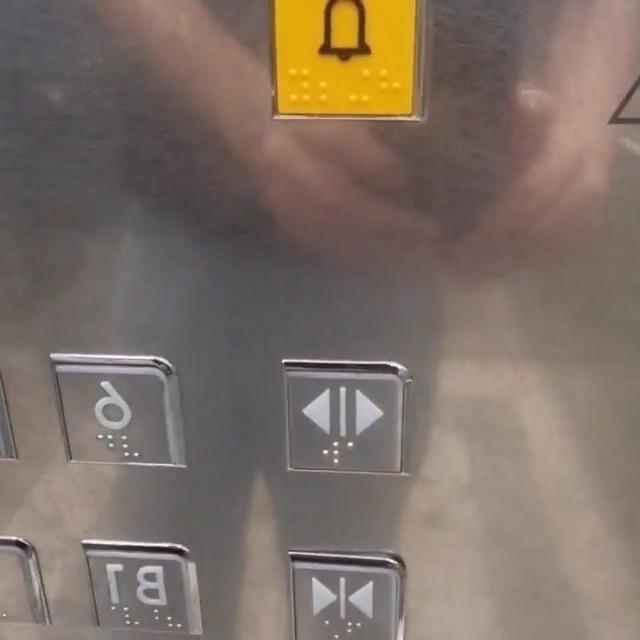button: (269, 0, 421, 121), (283, 359, 405, 477), (57, 353, 174, 476), (288, 550, 406, 640), (78, 548, 192, 640)
